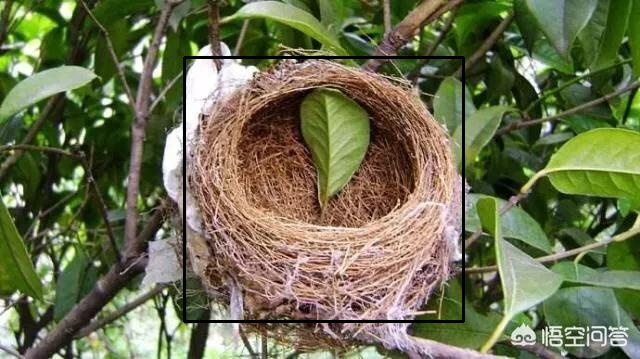bird-nest: (184, 57, 463, 321)
